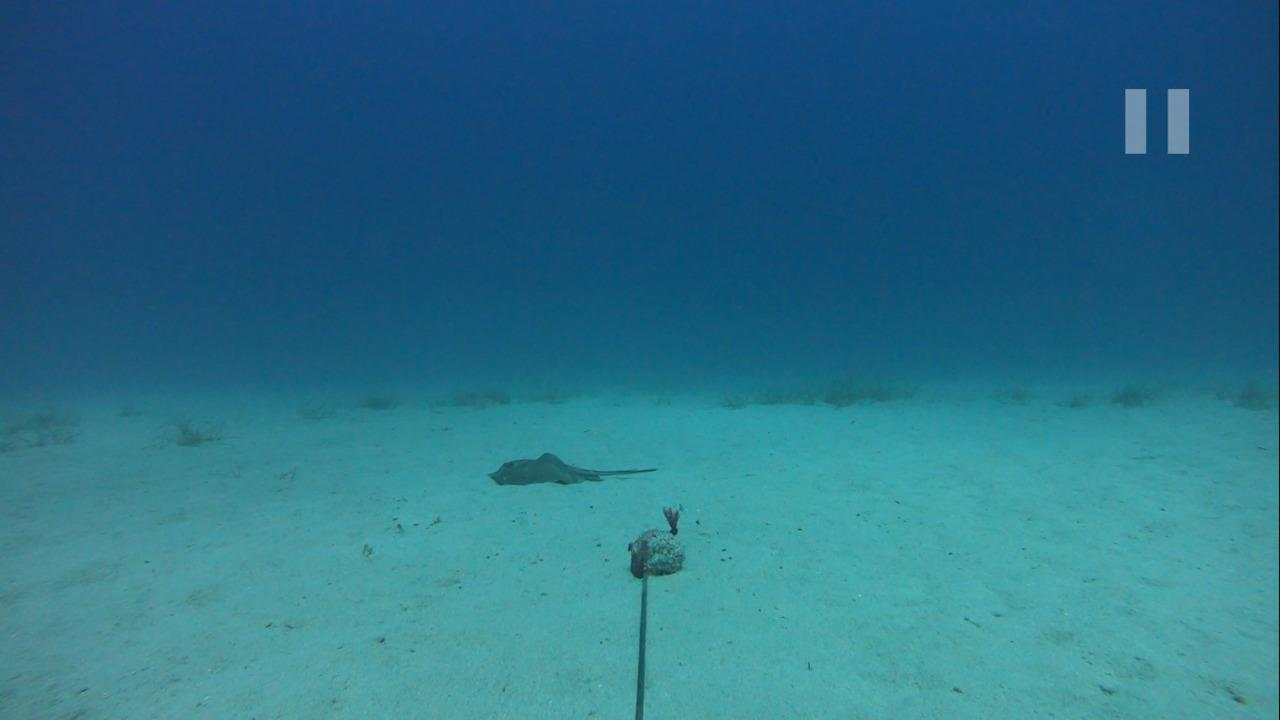myliobatis: (481, 446, 655, 489)
